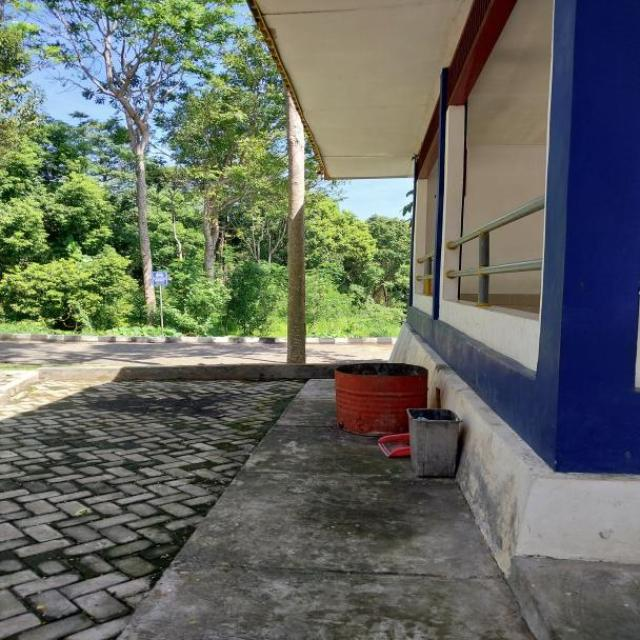dustbin ahead at: (332, 360, 434, 427), (402, 409, 463, 477)
